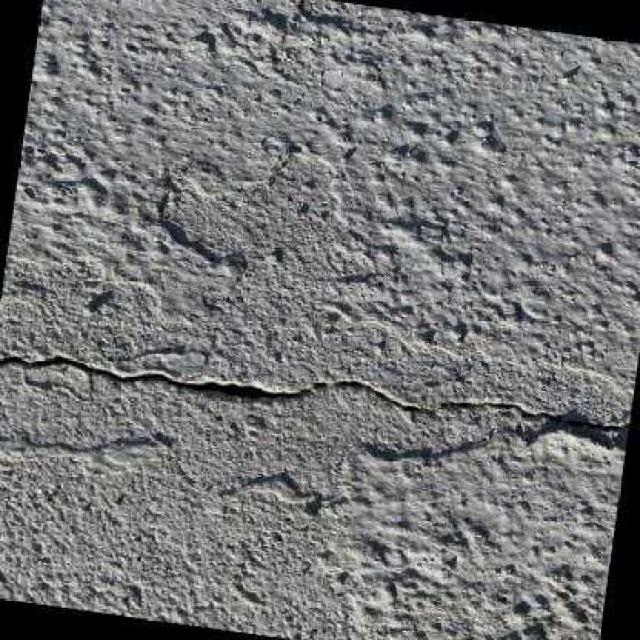D00: (0, 348, 630, 433)
